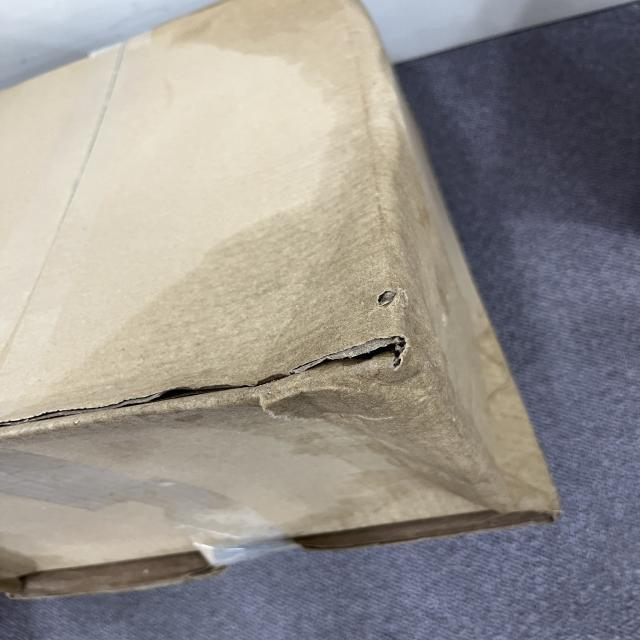wet: (103, 0, 558, 546)
